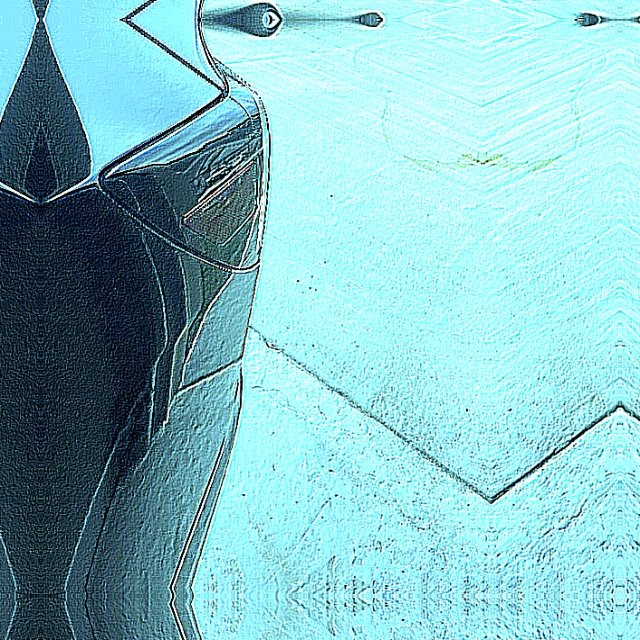reflector: (181, 161, 259, 246)
